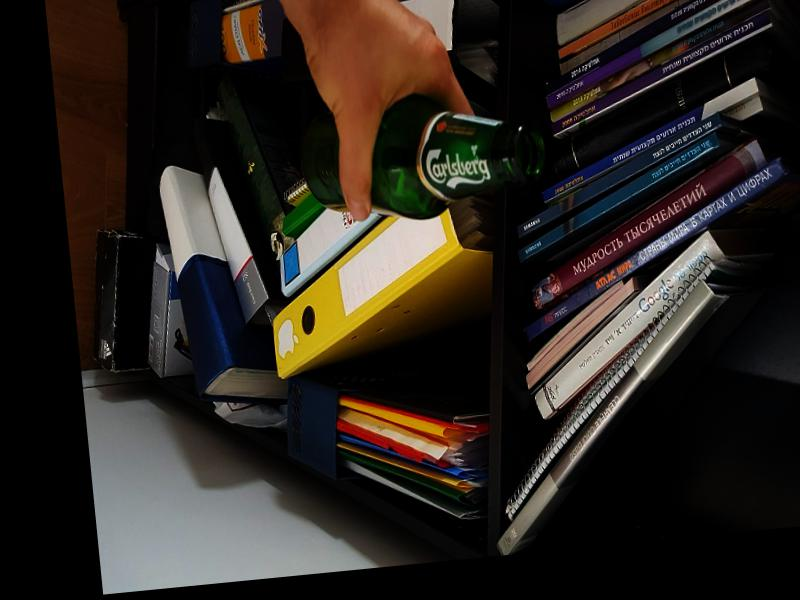Beer: (293, 86, 549, 228)
